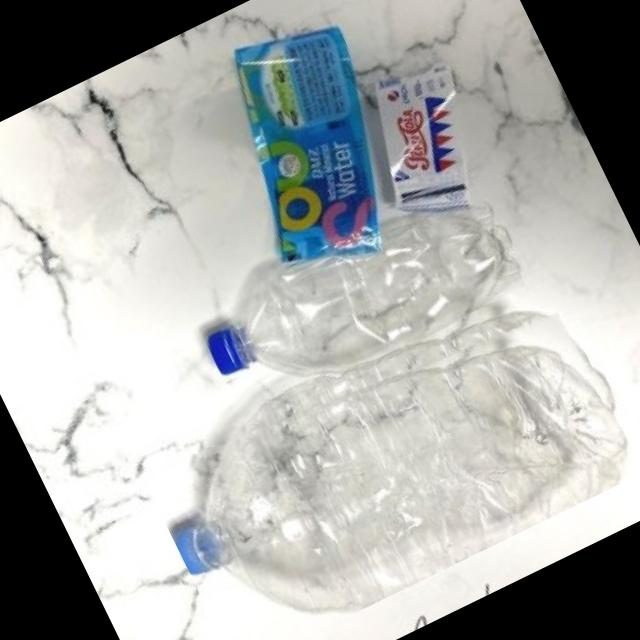plastic bottle: (140, 272, 640, 640), (184, 163, 526, 422)
